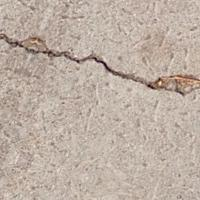crack: (2, 14, 199, 126)
